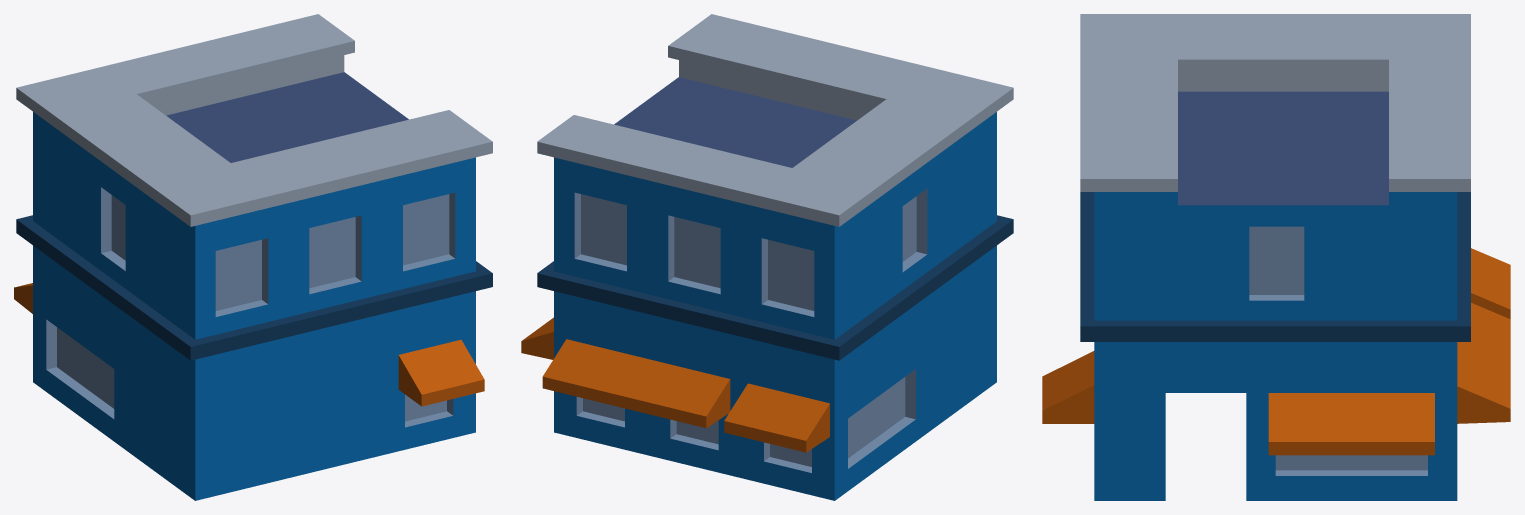
File: Shop.fbx
3 views of the same model, side by side, from view 1: azimuth 30°, elevation 25°; view 2: azimuth 150°, elevation 25°; view 3: azimuth 270°, elevation 25° (orthographic). The views are drawn at different scales.
Visible parts, largest first — view 1: Shop; view 2: Shop; view 3: Shop.
Boxes of the visible parts, box(x1,y1,x2,y2) form: Shop: box(14, 14, 492, 500); Shop: box(521, 14, 1013, 500); Shop: box(1042, 14, 1510, 500).
Bounding box in the file's own units: 60.94 × 51 × 66.01.
